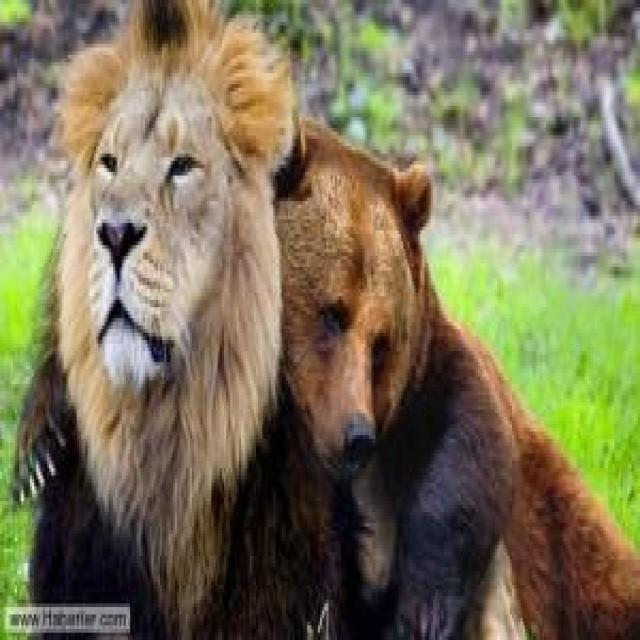Bear: (273, 121, 640, 640)
